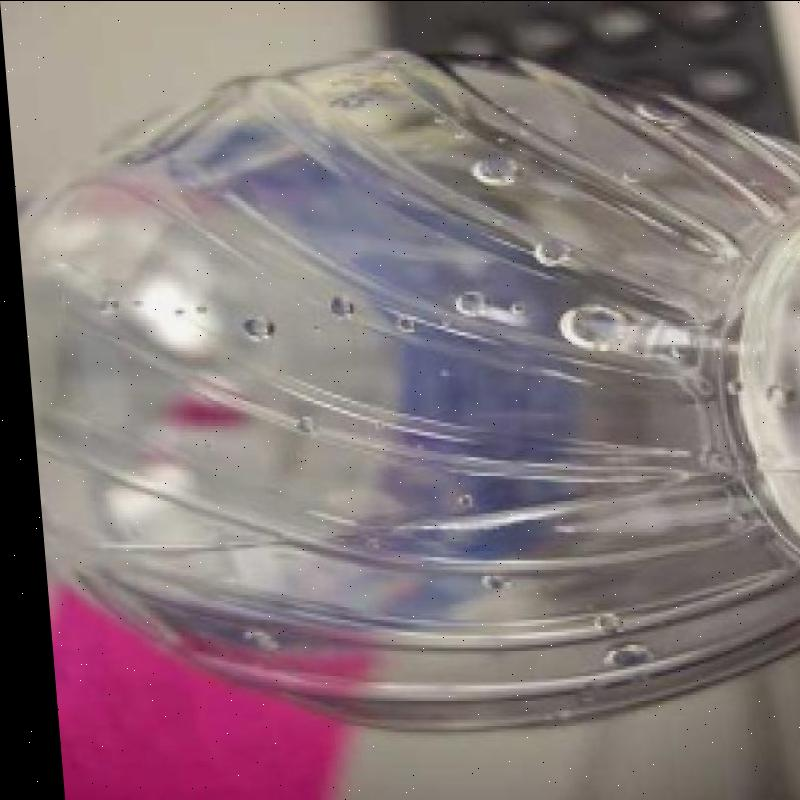botella: (3, 51, 800, 739)
